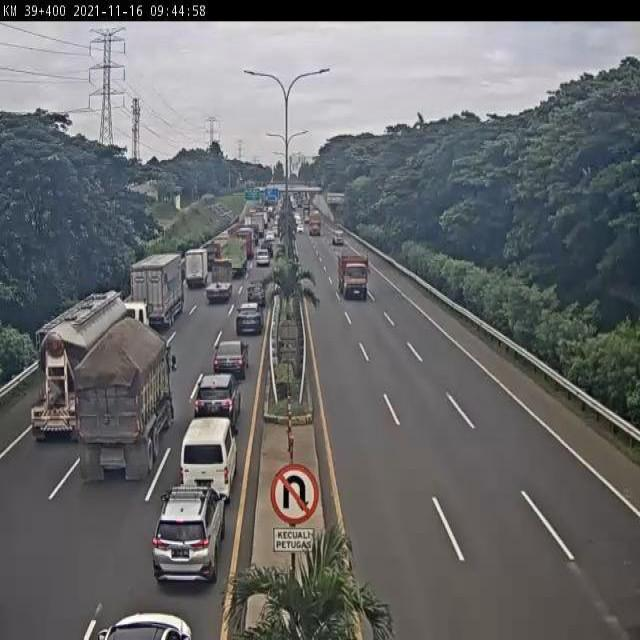car: (151, 488, 224, 581), (195, 375, 235, 424), (213, 343, 246, 377), (235, 303, 262, 336), (246, 283, 264, 308)
small bus: (179, 420, 237, 497)
truck-l-: (76, 330, 169, 482), (129, 253, 181, 329), (216, 237, 246, 280)
truck-m-: (339, 253, 369, 300), (204, 261, 233, 304), (180, 248, 205, 289)
truck-xl-: (31, 289, 151, 443)
